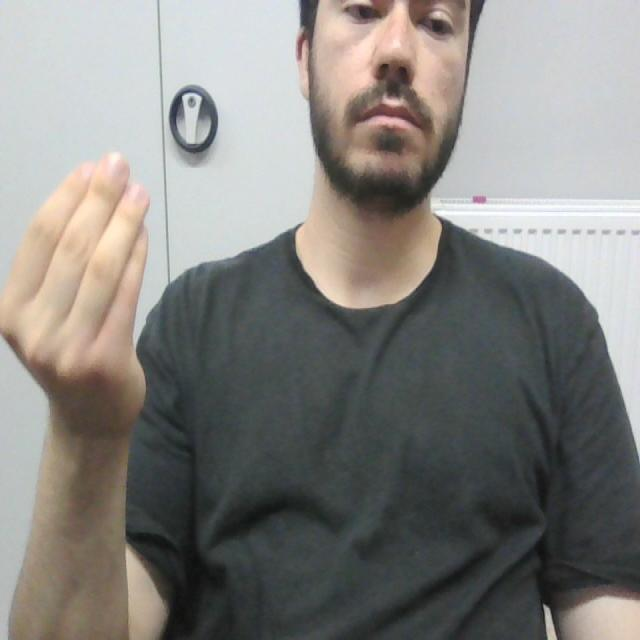iyi: (0, 146, 164, 375)
